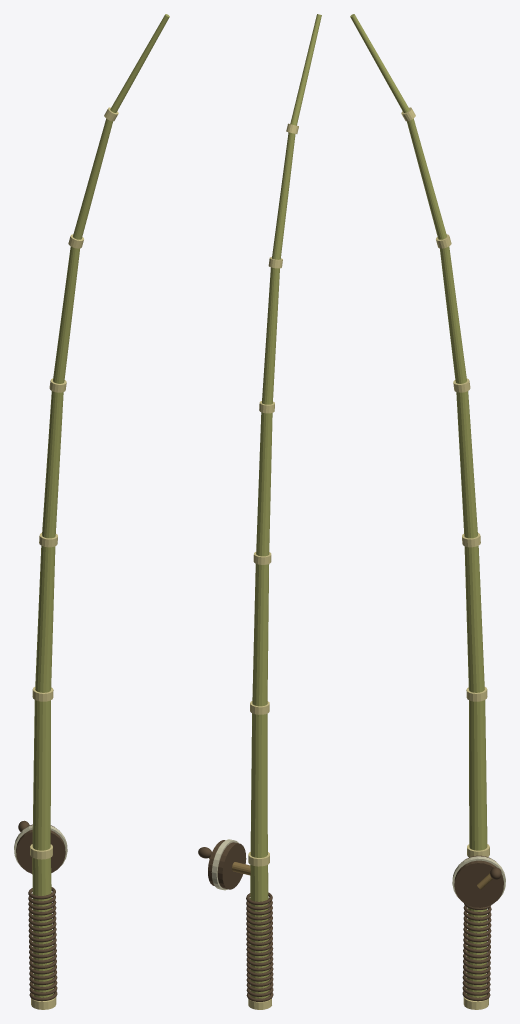
Rendered from BambooRod_LeftReel.fbx.
3 renders of one model, left to right at view 1: azimuth 90°, elevation 25°; view 2: azimuth 150°, elevation 25°; view 3: azimuth 270°, elevation 25°, orthographic. The views are drawn at different scales.
Parts seen in each view (by area): view 1: SM_BambooRod_LeftReel; view 2: SM_BambooRod_LeftReel; view 3: SM_BambooRod_LeftReel.
Boxes of the visible parts, left/top/right/bottom form: SM_BambooRod_LeftReel: left=14, top=14, right=169, bottom=1009; SM_BambooRod_LeftReel: left=198, top=14, right=321, bottom=1009; SM_BambooRod_LeftReel: left=350, top=14, right=505, bottom=1009.
Bounding box in the file's own units: 0.1564 × 2.22 × 0.3167.
